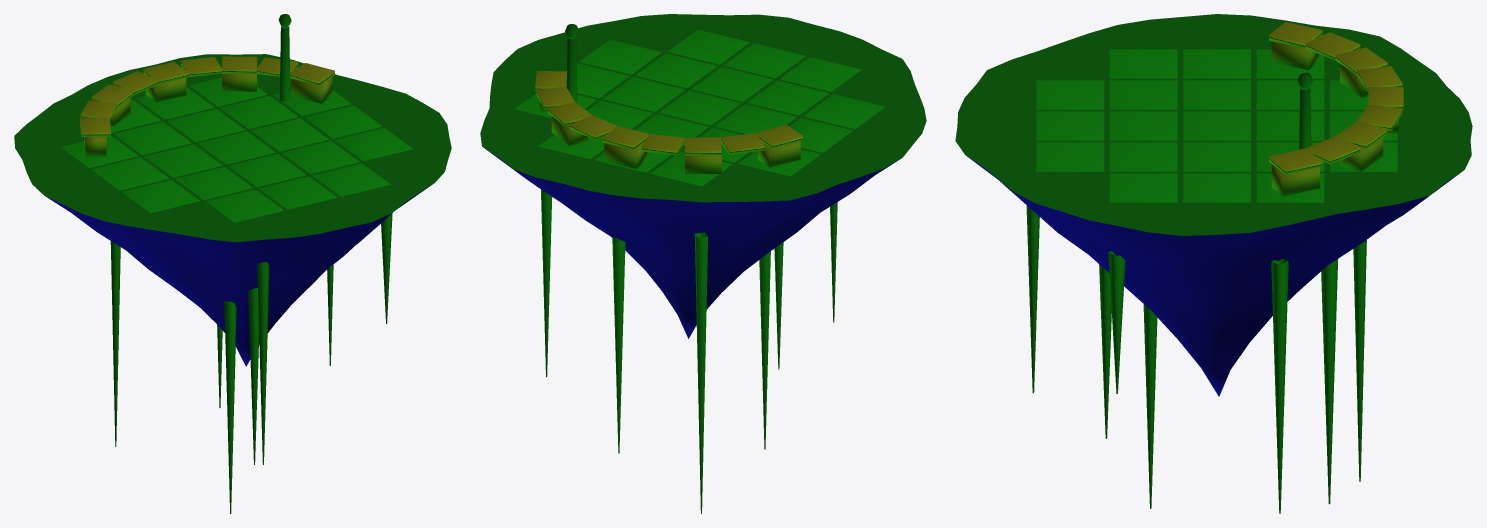
File: memory_landing.glb
3 renders of one model, left to right at view 1: azimuth 30°, elevation 25°; view 2: azimuth 150°, elevation 25°; view 3: azimuth 270°, elevation 25°, orthographic. The views are drawn at different scales.
Visible parts, largest first — view 1: memory_landing; view 2: memory_landing; view 3: memory_landing.
Boxes of the visible parts, x1,y1,x2,y2 form: memory_landing: [14, 14, 451, 513]; memory_landing: [480, 14, 926, 513]; memory_landing: [955, 14, 1472, 513].
Size of what is drawn, in the model's own units: 7.16 by 7.59 by 7.04.
